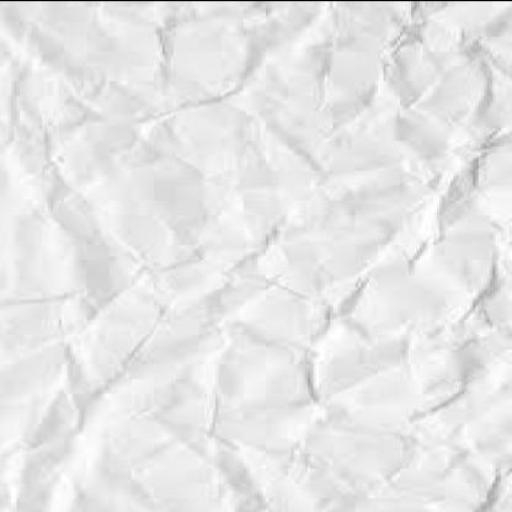metal: (2, 0, 512, 511)
